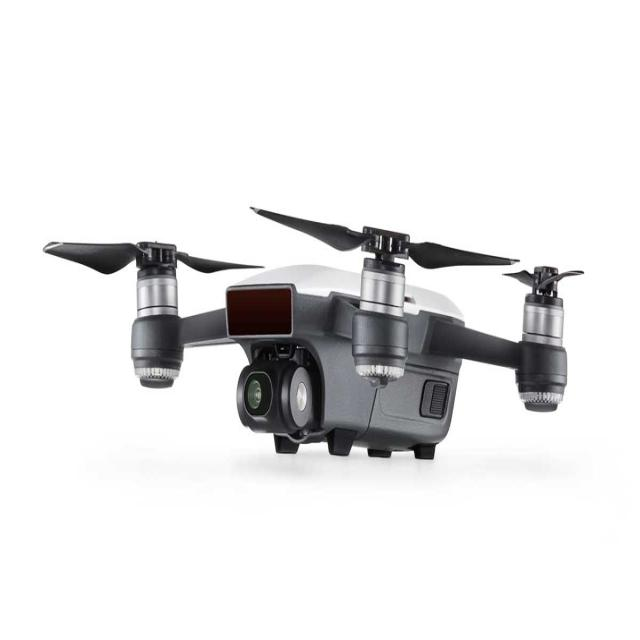drone: (49, 182, 607, 474)
